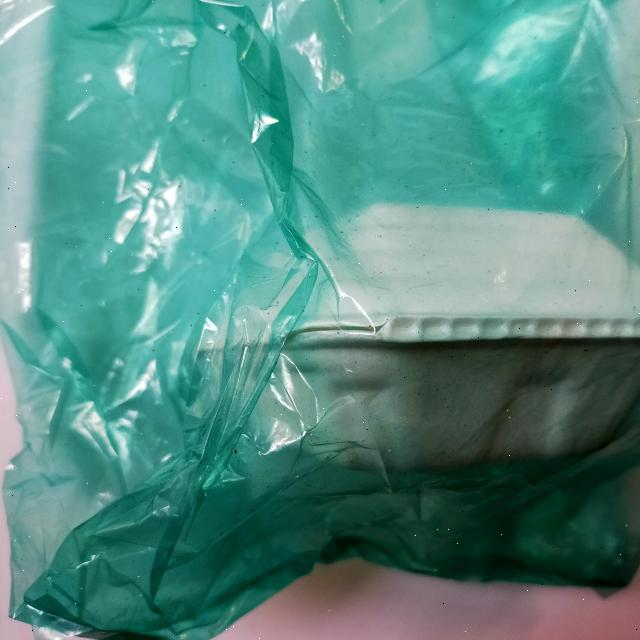styrofoam: (2, 1, 638, 637)
